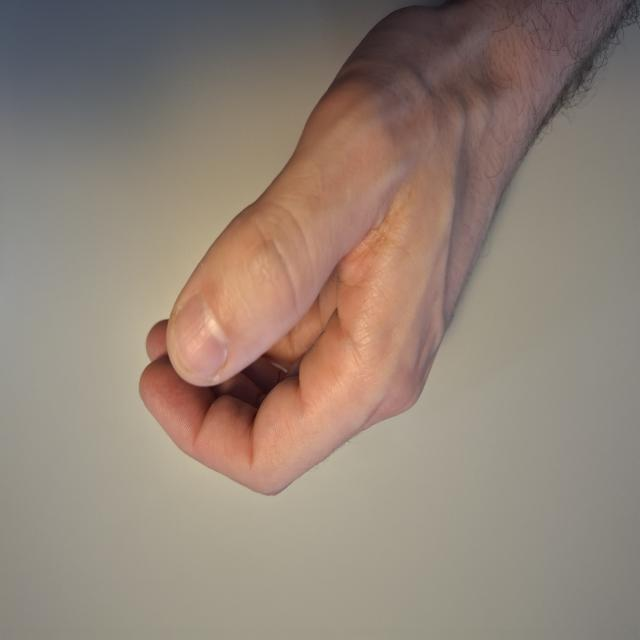glove_off: (136, 2, 572, 500)
